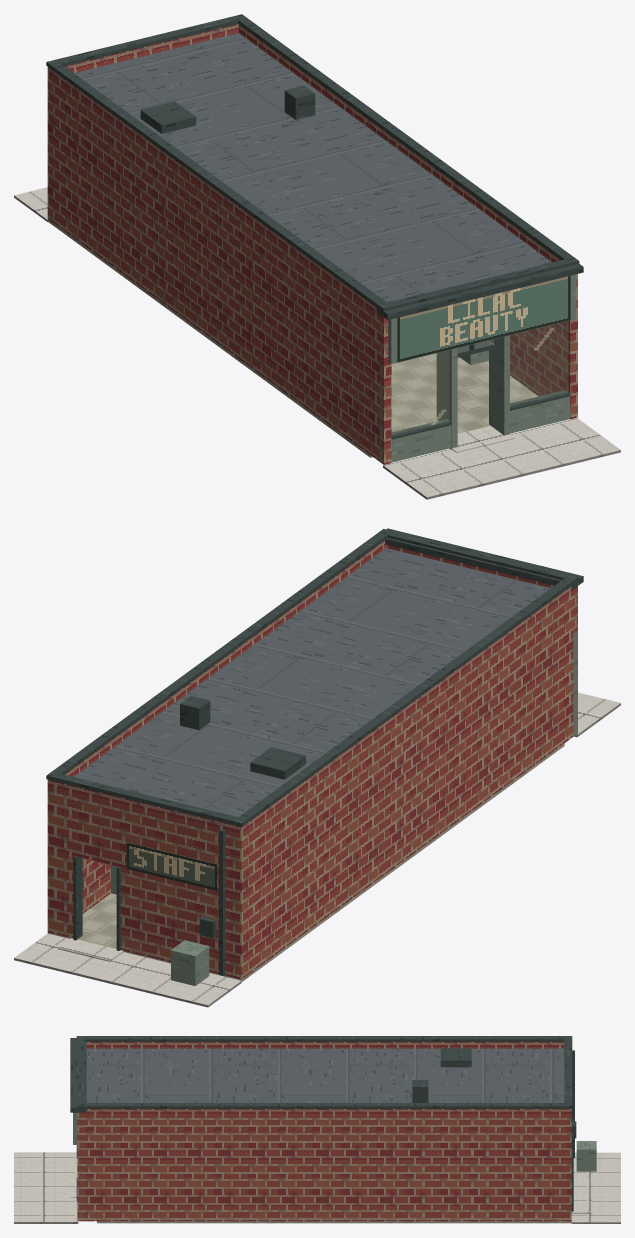
The model's file is salon-1940-far.glb.
3 renders of one model, top to bottom at view 1: azimuth 30°, elevation 25°; view 2: azimuth 150°, elevation 25°; view 3: azimuth 270°, elevation 25°, orthographic. The views are drawn at different scales.
Parts seen in each view (by area): view 1: shell, lot, sign_name, fixed_interior; view 2: shell, lot, fixed_interior, sign_staff; view 3: shell, lot, fixed_interior.
Boxes of the visible parts, box(x1,y1,x2,y2) form: shell: box(46, 14, 583, 464); lot: box(14, 187, 620, 499); sign_name: box(397, 275, 570, 362); fixed_interior: box(47, 219, 538, 457); shell: box(46, 528, 583, 979); lot: box(14, 692, 620, 1007); fixed_interior: box(47, 743, 564, 981); sign_staff: box(126, 842, 216, 890); shell: box(70, 1036, 591, 1221); lot: box(14, 1141, 620, 1223); fixed_interior: box(97, 1221, 571, 1223).
Size of what is drawn, in the model's own units: 6.05 by 4.99 by 22.1.
9 materials, 9 textured.
